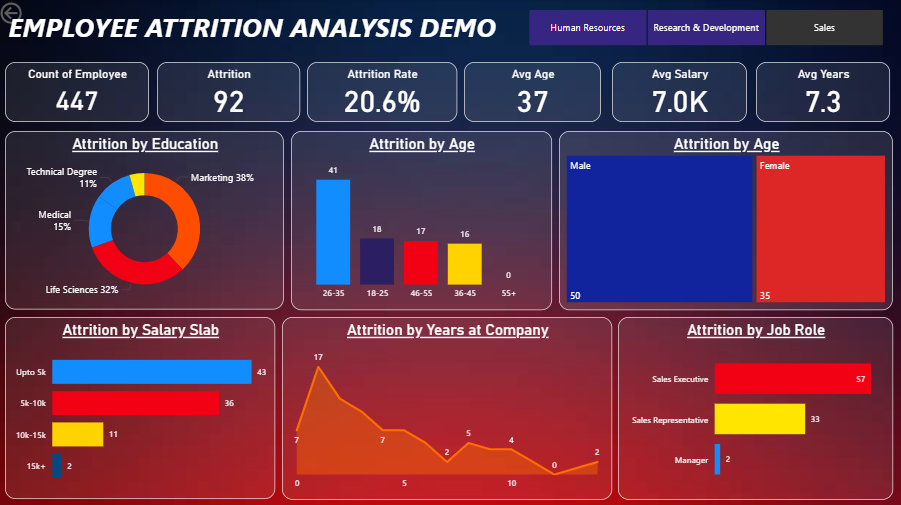

This screenshot's page, from the dashboard's own definition file:
{"tool":"powerbi","page":{"name":"Page 1","canvas":[1280,720],"ordinal":0},"visuals":[{"type":"card","title":"Count of Employee","fields":{"Values":["Sum(HR_Analytics.EmployeeCount)"]},"box":[10.6,89.3,209,90.9],"z":0},{"type":"card","title":"Attrition","fields":{"Values":["Sum(HR_Analytics.AttritionCount)"]},"box":[227.1,89.3,204.4,90.9],"z":1000},{"type":"card","title":"Attrition Rate","fields":{"Values":["HR_Analytics.AttritionRate"]},"box":[439.1,89.3,216.5,90.9],"z":2000},{"type":"card","title":"Avg Age","fields":{"Values":["Avg(HR_Analytics.Age)"]},"box":[661.7,89.3,202.9,90.9],"z":3000},{"type":"card","title":"Avg Years","fields":{"Values":["Avg(HR_Analytics.YearsAtCompany)"]},"box":[1075.7,89.3,193,91],"z":4000},{"type":"card","title":"Avg Salary","fields":{"Values":["Avg(HR_Analytics.MonthlyIncome)"]},"box":[872.2,89.3,193.8,90.9],"z":5000},{"type":"donutChart","title":" Attrition by Education","fields":{"Category":["HR_Analytics.EducationField"],"Y":["Sum(HR_Analytics.AttritionCount)"]},"box":[11.3,187.1,397,256],"z":6000},{"type":"columnChart","title":" Attrition by Age","fields":{"Category":["HR_Analytics.AgeGroup"],"Y":["Sum(HR_Analytics.AttritionCount)"]},"box":[416.4,187.8,373,255.9],"z":7000},{"type":"actionButton","box":[0,0,100,40],"z":8000},{"type":"clusteredBarChart","title":" Attrition by Salary Slab","fields":{"Category":["HR_Analytics.SalarySlab"],"Y":["Sum(HR_Analytics.AttritionCount)"]},"box":[11.3,450.7,386,258],"z":9000},{"type":"clusteredBarChart","title":" Attrition by Job Role","fields":{"Y":["Sum(HR_Analytics.AttritionCount)"],"Category":["HR_Analytics.JobRole"]},"box":[880.2,450.7,389.8,259.4],"z":10000},{"type":"areaChart","title":" Attrition by Years at Company","fields":{"Category":["HR_Analytics.YearsAtCompany"],"Y":["Sum(HR_Analytics.AttritionCount)"]},"box":[403.9,450.7,468,259.4],"z":11000},{"type":"lineChart","title":" Attrition by Age","fields":{"Category":["HR_Analytics.Age"],"Y":["CountNonNull(HR_Analytics.AttritionCount)"],"Series":["HR_Analytics.Gender"]},"box":[796.5,187.8,473.9,255.9],"z":12000},{"type":"slicer","title":"Filter by Departments","fields":{"Values":["HR_Analytics.Department"]},"box":[576.9,9.1,704,76],"z":13000},{"type":"textbox","box":[10.6,9.1,590.5,63.6],"z":14000}]}

Visuals, with their boxes in screenshot pixels (x1, y1, x2, y2), scaled from the page's 1280x720 canvas onto the 901x505 screenshot:
"Count of Employee" card: bbox=[7, 63, 155, 126]
"Attrition" card: bbox=[160, 63, 304, 126]
"Attrition Rate" card: bbox=[309, 63, 461, 126]
"Avg Age" card: bbox=[466, 63, 609, 126]
"Avg Years" card: bbox=[757, 63, 893, 126]
"Avg Salary" card: bbox=[614, 63, 750, 126]
" Attrition by Education" donutChart: bbox=[8, 131, 287, 311]
" Attrition by Age" columnChart: bbox=[293, 132, 556, 311]
actionButton: bbox=[0, 0, 70, 28]
" Attrition by Salary Slab" clusteredBarChart: bbox=[8, 316, 280, 497]
" Attrition by Job Role" clusteredBarChart: bbox=[620, 316, 894, 498]
" Attrition by Years at Company" areaChart: bbox=[284, 316, 614, 498]
" Attrition by Age" lineChart: bbox=[561, 132, 894, 311]
"Filter by Departments" slicer: bbox=[406, 6, 900, 60]
textbox: bbox=[7, 6, 423, 51]
